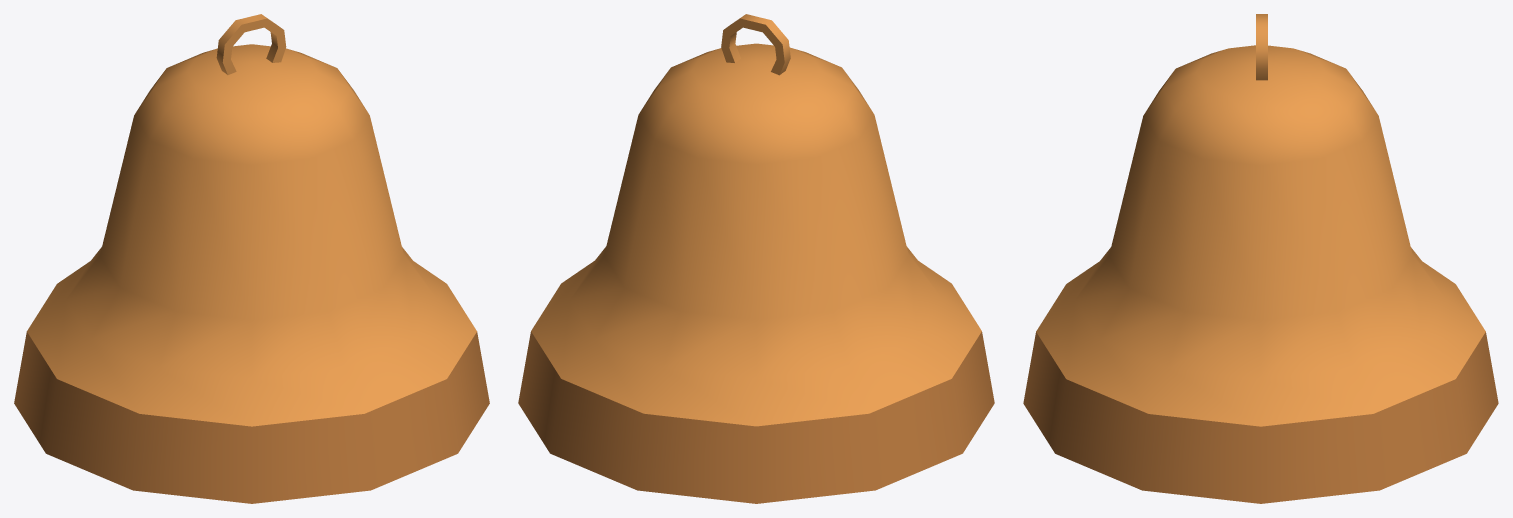
Rendered from Bell_01.fbx.
The picture shows the model from 3 angles, left to right: view 1: azimuth 30°, elevation 25°; view 2: azimuth 150°, elevation 25°; view 3: azimuth 270°, elevation 25°; orthographic projection.
Parts seen in each view (by area): view 1: Bell_01; view 2: Bell_01; view 3: Bell_01.
Boxes of the visible parts, x1,y1,x2,y2 form: Bell_01: (14, 14, 489, 503); Bell_01: (518, 14, 994, 503); Bell_01: (1023, 14, 1498, 503).
Bounding box in the file's own units: 0.1634 × 0.1695 × 0.1634.
